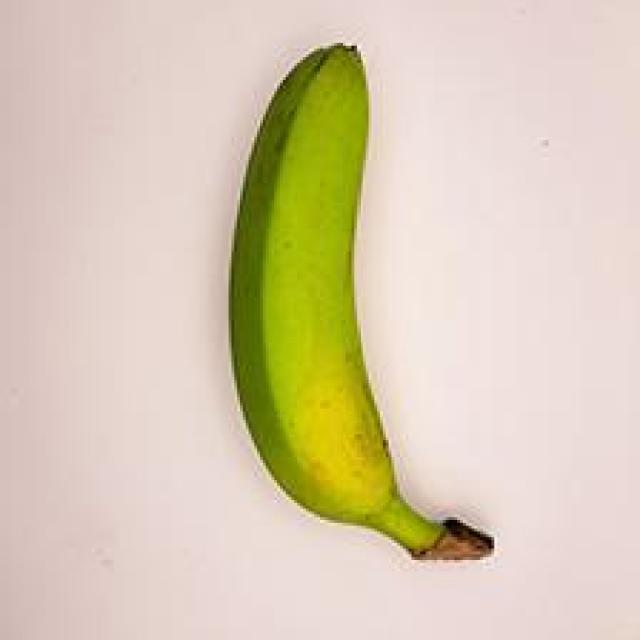Unripe: (203, 31, 528, 582)
